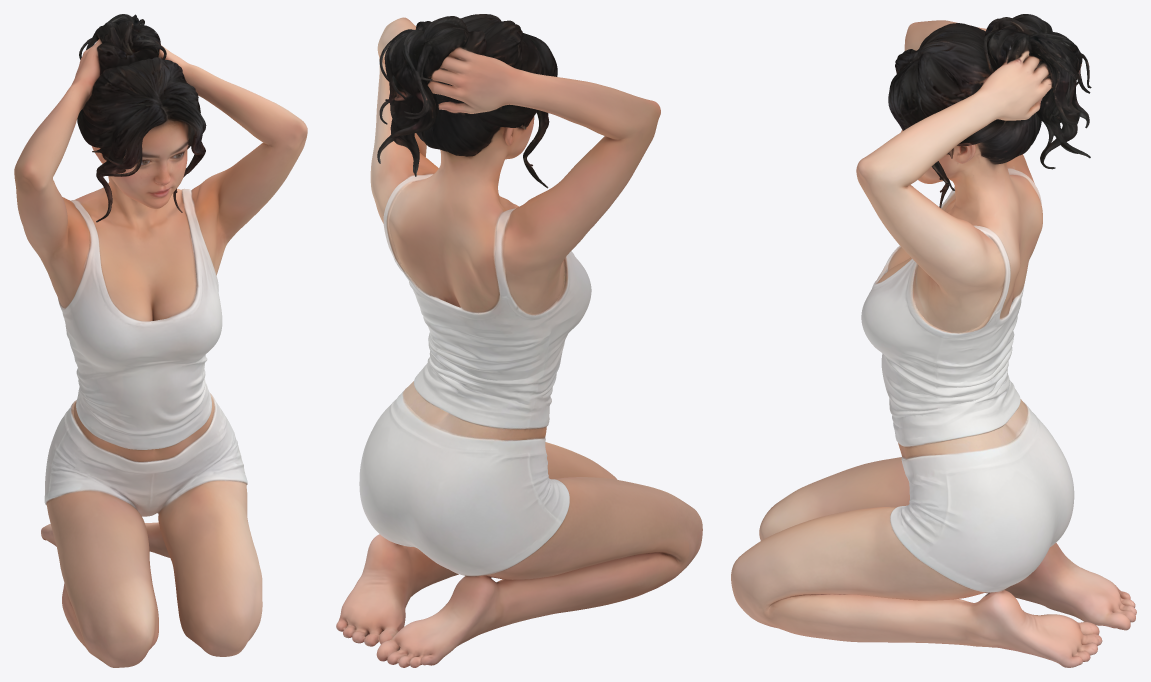
File: woman_seated_v16.glb
3 renders of one model, left to right at view 1: azimuth 30°, elevation 25°; view 2: azimuth 150°, elevation 25°; view 3: azimuth 270°, elevation 25°, orthographic. The views are drawn at different scales.
Parts seen in each view (by area): view 1: Mesh_0_modddif_material_0_0 (×2); view 2: Mesh_0_modddif_material_0_0 (×2); view 3: Mesh_0_modddif_material_0_0 (×2).
Boxes of the visible parts, x1,y1,x2,y2 form: Mesh_0_modddif_material_0_0 (×2): (14, 14, 307, 667); Mesh_0_modddif_material_0_0 (×2): (336, 14, 702, 667); Mesh_0_modddif_material_0_0 (×2): (731, 14, 1136, 667).
Bounding box in the file's own units: 0.5077 × 1 × 0.6009.
1 material, 1 textured.
